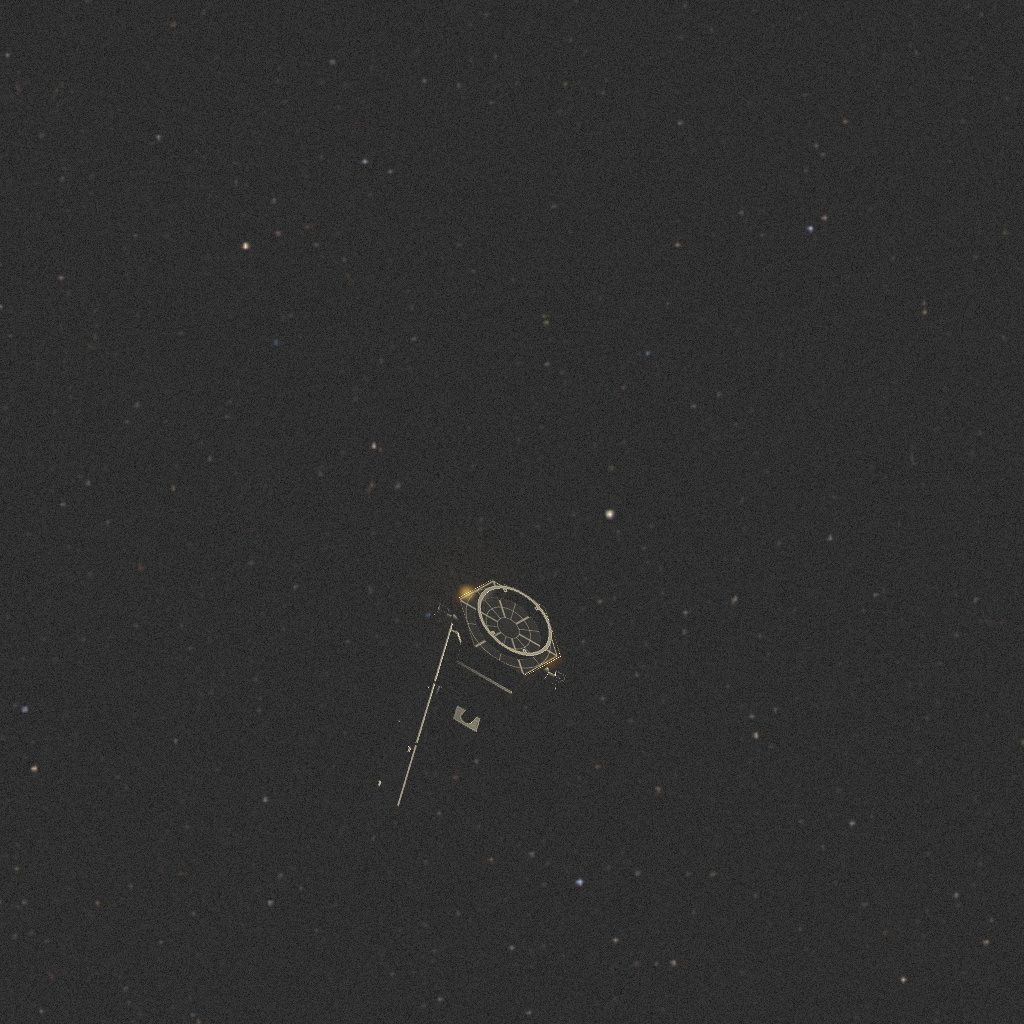earth_observation_sat_1: (353, 578, 565, 856)
